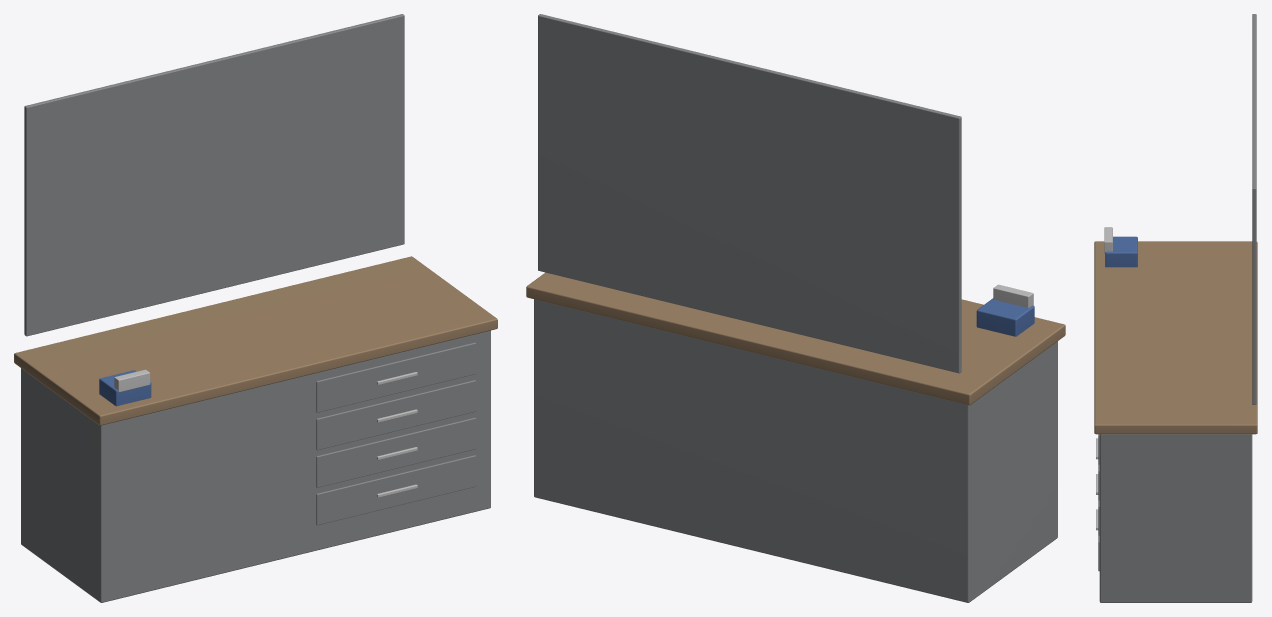
Rendered from Workbench.fbx.
3 renders of one model, left to right at view 1: azimuth 30°, elevation 25°; view 2: azimuth 150°, elevation 25°; view 3: azimuth 270°, elevation 25°, orthographic. The views are drawn at different scales.
Visible parts, largest first — view 1: Workbench_LOD0; view 2: Workbench_LOD0; view 3: Workbench_LOD0.
Boxes of the visible parts, x1,y1,x2,y2 form: Workbench_LOD0: [14, 14, 497, 602]; Workbench_LOD0: [526, 14, 1065, 602]; Workbench_LOD0: [1094, 14, 1257, 602].
Size of what is drawn, in the model's own units: 2 by 2.09 by 0.75.
